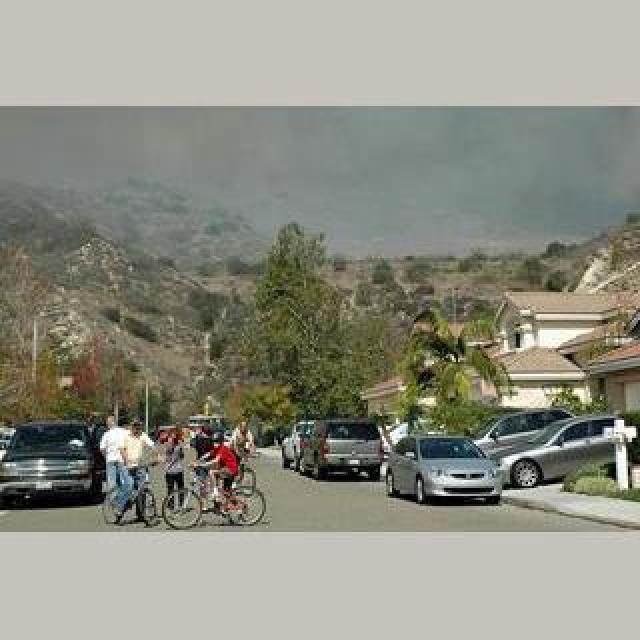Bus-Bike: (476, 414, 634, 488), (382, 432, 504, 506), (298, 420, 386, 482), (470, 410, 574, 458)
MC-Bike: (118, 418, 158, 520), (194, 434, 242, 510), (98, 414, 132, 512), (162, 430, 192, 512), (230, 418, 258, 484)
Person: (166, 464, 266, 530), (104, 464, 160, 528)
Truck-Bike: (0, 418, 102, 506)
